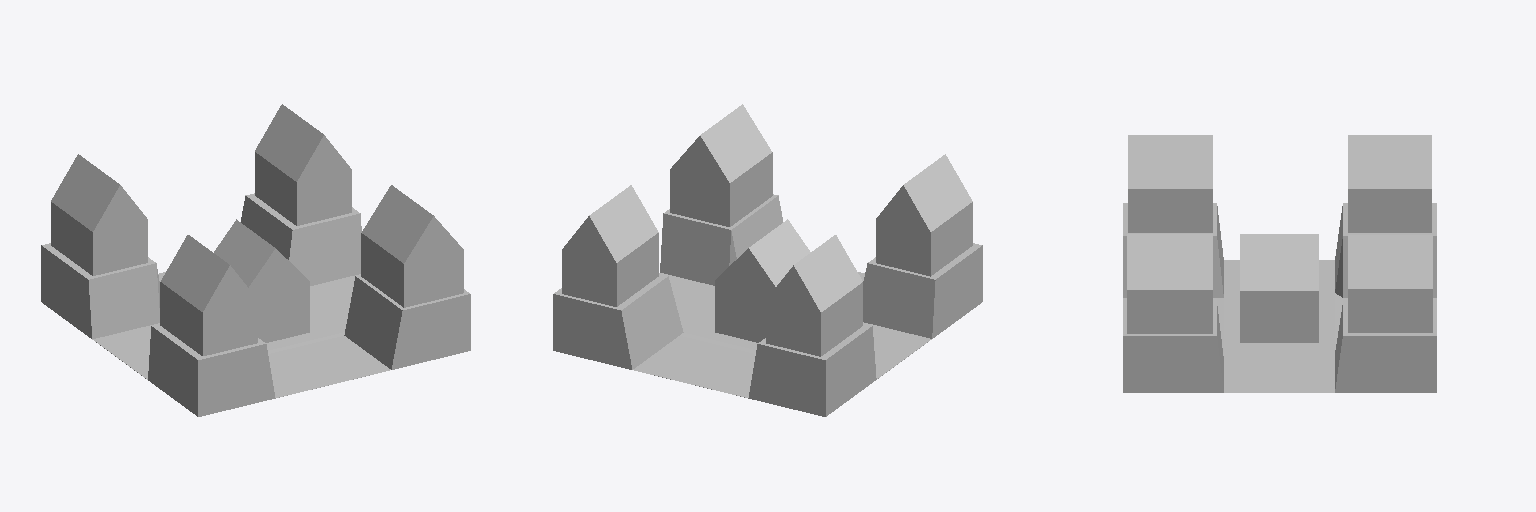
The model's file is town.obj.
3 renders of one model, left to right at view 1: azimuth 30°, elevation 25°; view 2: azimuth 150°, elevation 25°; view 3: azimuth 270°, elevation 25°, orthographic.
Parts seen in each view (by area): view 1: Cube_Cube.004; view 2: Cube_Cube.004; view 3: Cube_Cube.004.
Part boxes in pixels (x1,y1,x2,y2): Cube_Cube.004: (41, 104, 470, 416); Cube_Cube.004: (553, 104, 982, 416); Cube_Cube.004: (1123, 135, 1436, 392).
Size of the model in its own units: 1 by 0.5007 by 1.